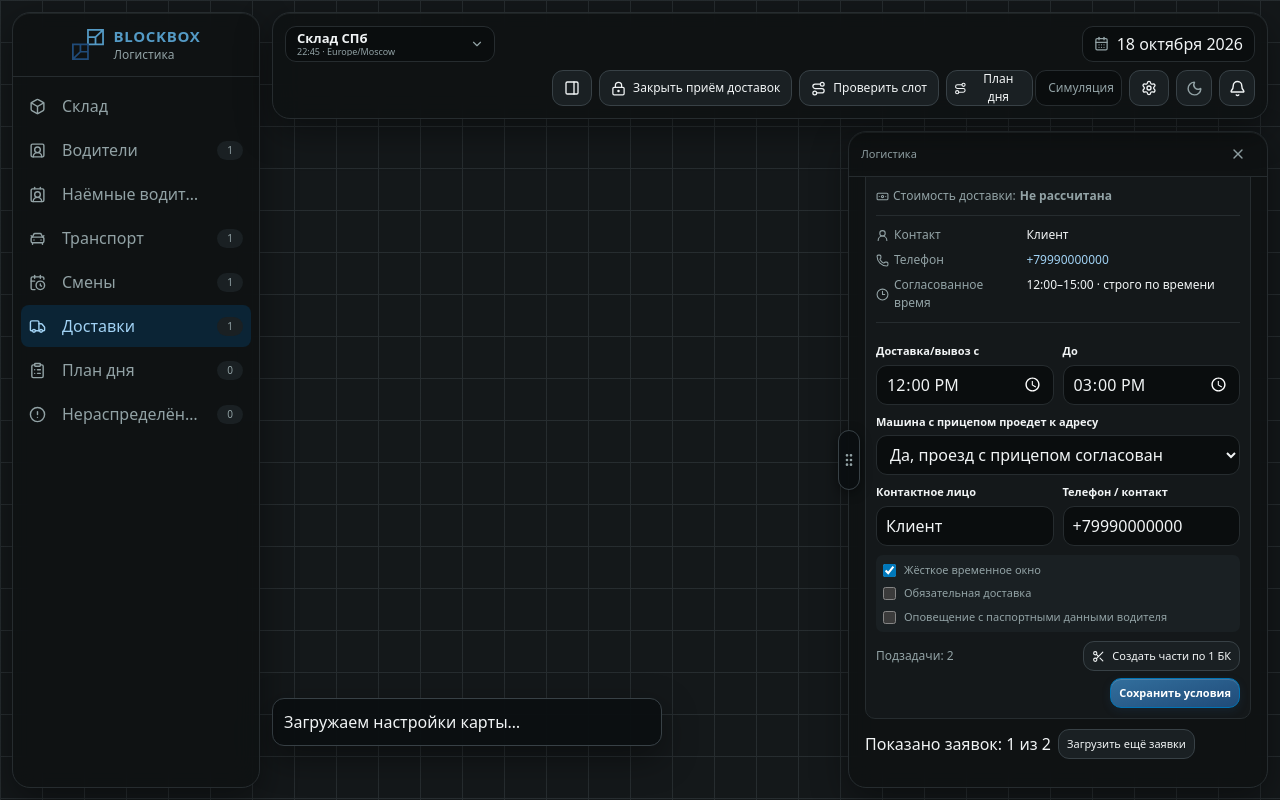
it: application states › loads the next bounded request page explicitly without changing the inspector section
(page scrolled)
Expected: the text "Показано заявок: 1 из 2" is shown, [865, 732, 1051, 756]
Click the button "Загрузить ещё заявки" at (1126, 744), box [1058, 729, 1195, 759]
(page scrolled)
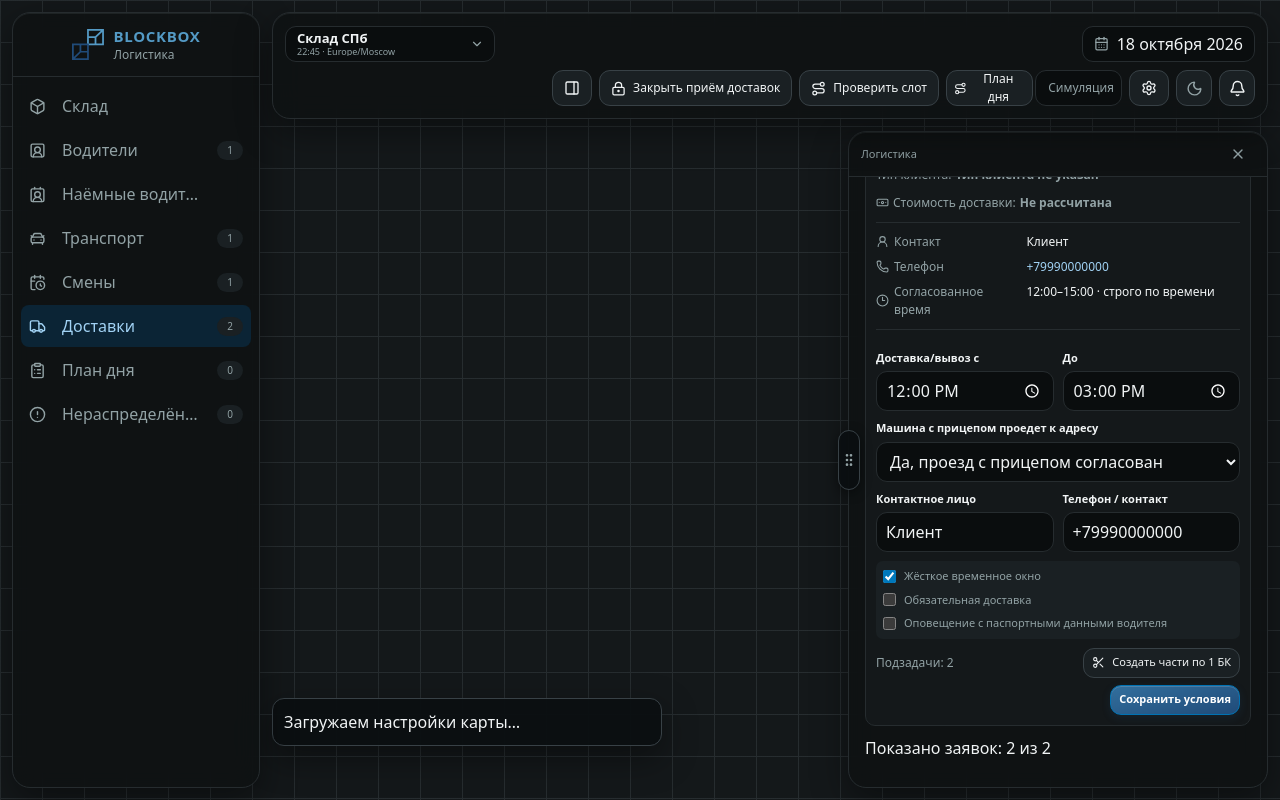
Now the text "Показано заявок: 2 из 2" is shown, box [865, 736, 1051, 760]
Now the button "Загрузить ещё заявки" is gone
